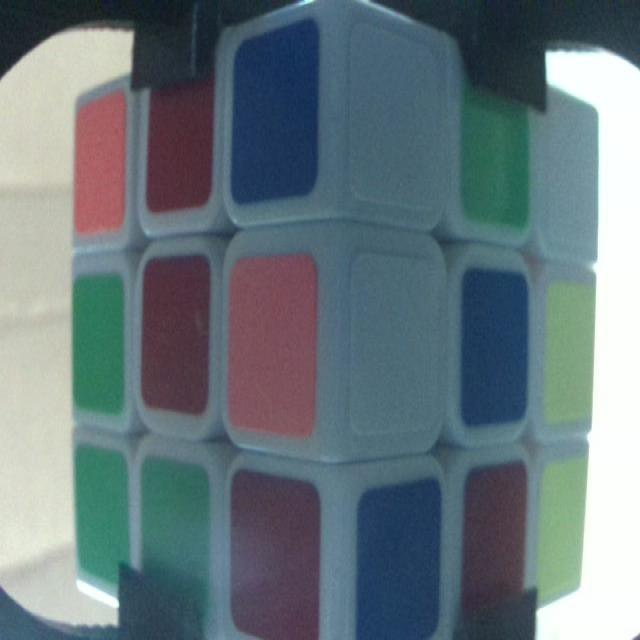b: (235, 46, 316, 190), (362, 494, 441, 636), (464, 272, 530, 422)
g: (142, 460, 210, 615), (462, 88, 530, 221), (77, 450, 129, 585), (75, 282, 122, 410)
o: (234, 261, 315, 428), (75, 108, 124, 223)
r: (235, 475, 320, 635), (146, 264, 208, 414), (465, 473, 527, 603), (147, 86, 211, 202)
w: (354, 33, 436, 206), (354, 255, 435, 426), (546, 106, 598, 250)
y: (550, 285, 591, 417), (538, 466, 582, 588)
